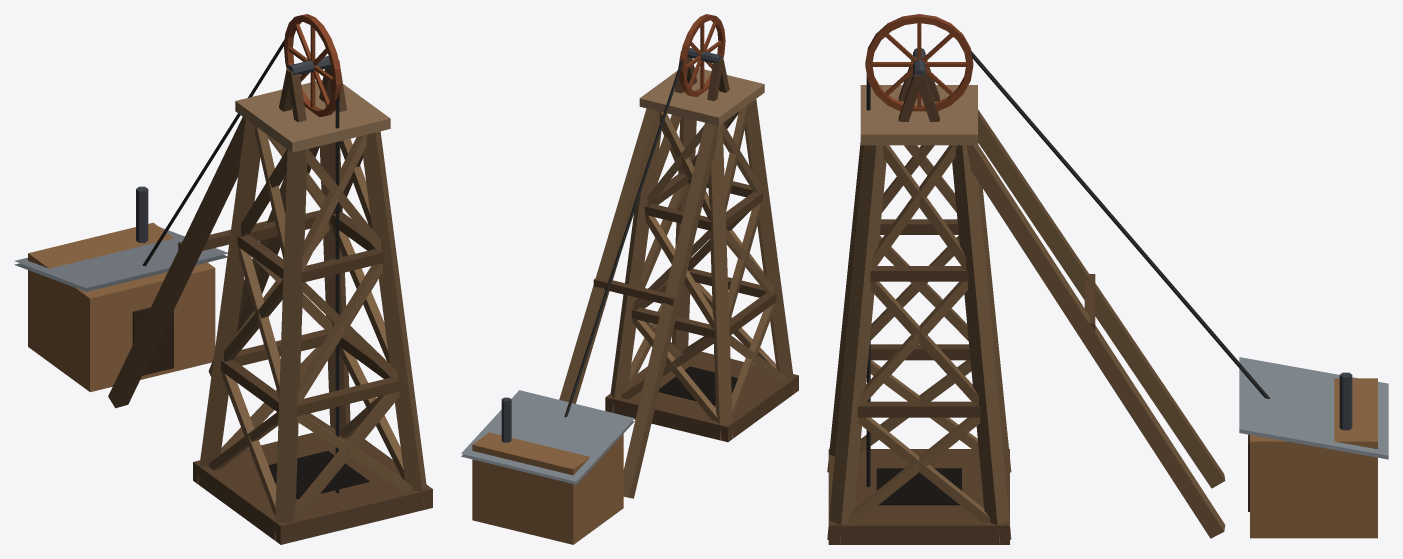
File: mine-headframe.glb
3 renders of one model, left to right at view 1: azimuth 30°, elevation 25°; view 2: azimuth 150°, elevation 25°; view 3: azimuth 270°, elevation 25°, orthographic. The views are drawn at different scales.
Parts seen in each view (by area): view 1: mine-headframe; view 2: mine-headframe; view 3: mine-headframe.
Boxes of the visible parts, x1,y1,x2,y2 form: mine-headframe: (14,14,432,544); mine-headframe: (461,14,798,544); mine-headframe: (827,14,1388,544).
Bounding box in the file's own units: 3.45 × 10.24 × 10.53.
